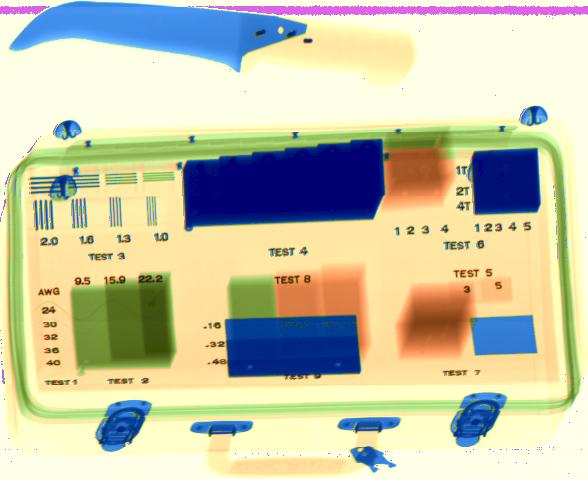Knife: (8, 3, 418, 89)
